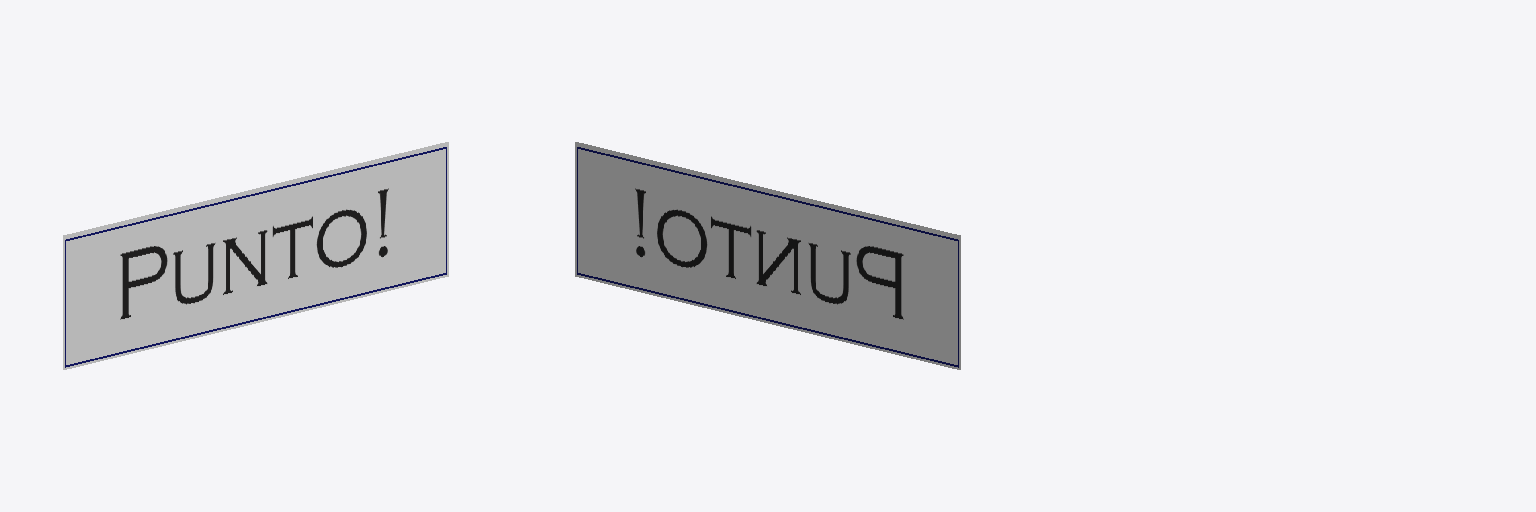
3 renders of one model, left to right at view 1: azimuth 30°, elevation 25°; view 2: azimuth 150°, elevation 25°; view 3: azimuth 270°, elevation 25°, orthographic.
Visible parts, largest first — view 1: pPlane1; view 2: pPlane1; view 3: none.
Boxes of the visible parts, <box> form: pPlane1: <box>63,142,448,369</box>; pPlane1: <box>575,142,960,369</box>.
Bounding box in the file's own units: 1.5 × 0.5 × 0.
1 materials, 1 textured.